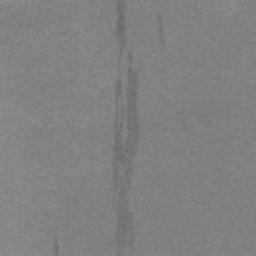Red iron sheet: (113, 0, 138, 256), (158, 13, 165, 46), (54, 238, 60, 256)
